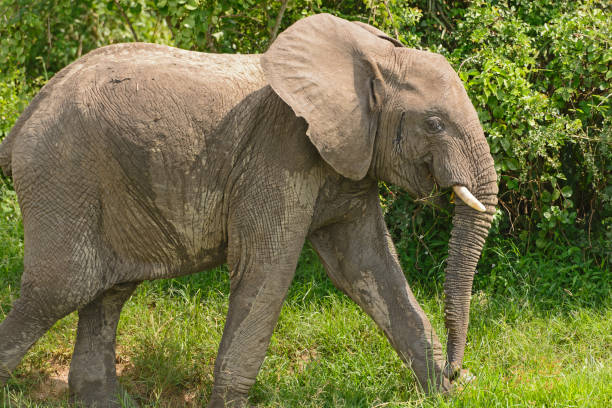africanelephant: (277, 29, 497, 262)
